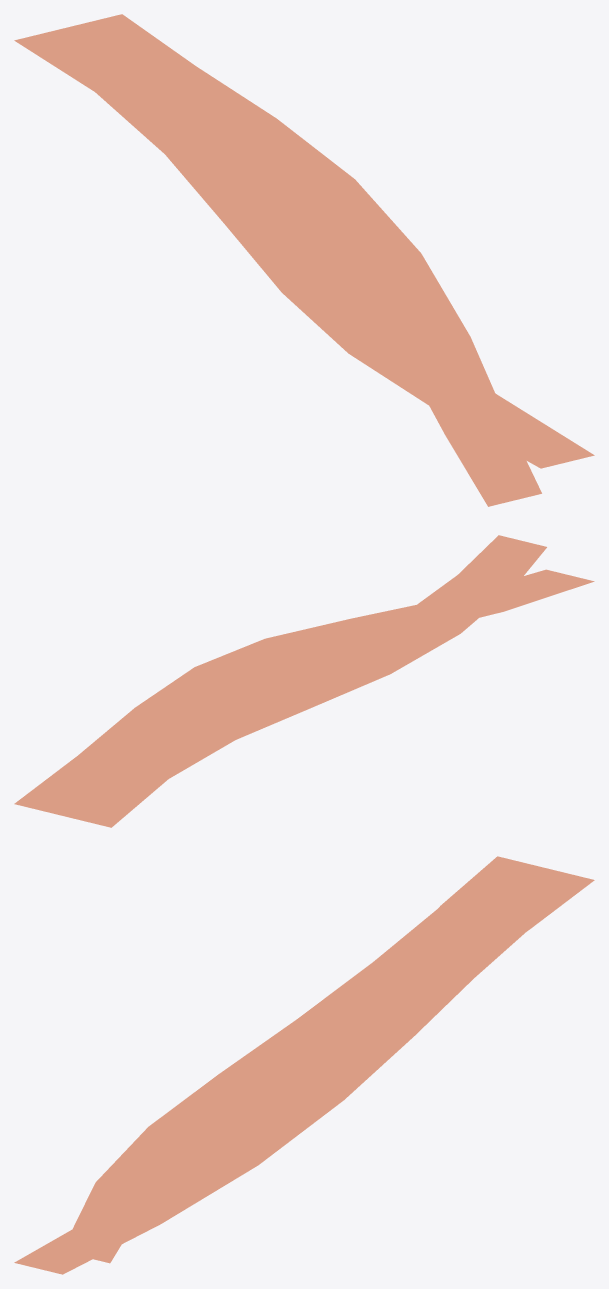
The model's file is ribbon.glb.
The picture shows the model from 3 angles, top to bottom: view 1: azimuth 30°, elevation 25°; view 2: azimuth 150°, elevation 25°; view 3: azimuth 330°, elevation 25°; orthographic projection. The views are drawn at different scales.
Parts seen in each view (by area): view 1: RibbonL, RibbonR; view 2: RibbonL, RibbonR; view 3: RibbonL, RibbonR.
Boxes of the visible parts, <box> form: RibbonL: <box>14,14,541,506</box>; RibbonR: <box>20,44,594,468</box>; RibbonL: <box>14,569,594,827</box>; RibbonR: <box>116,535,546,823</box>; RibbonL: <box>14,856,594,1274</box>; RibbonR: <box>61,889,582,1263</box>.
Size of the model in its own units: 0.9785 by 0.5363 by 5.5.
